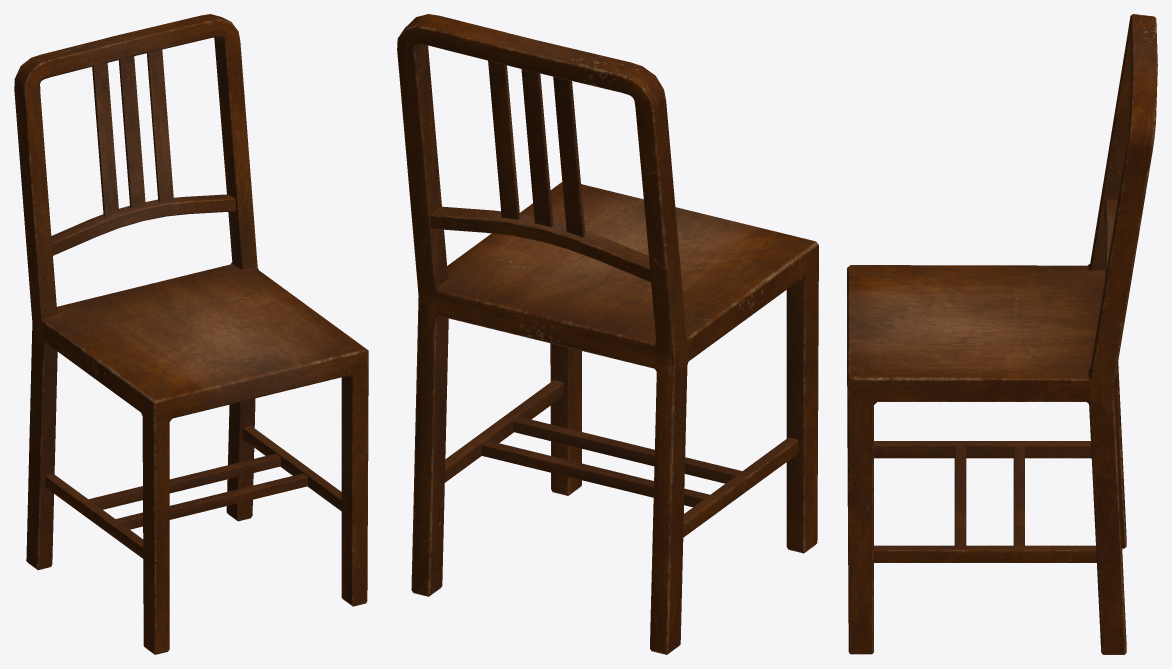
Rendered from old_chair.obj.
3 renders of one model, left to right at view 1: azimuth 30°, elevation 25°; view 2: azimuth 150°, elevation 25°; view 3: azimuth 270°, elevation 25°, orthographic. The views are drawn at different scales.
Visible parts, largest first — view 1: old_chair; view 2: old_chair; view 3: old_chair.
Part boxes in pixels (<box>): old_chair: <box>14,14,368,654</box>; old_chair: <box>397,14,818,654</box>; old_chair: <box>847,14,1157,654</box>.
Size of the model in its own units: 45.36 by 99.05 by 51.88.
1 material, 1 textured.
